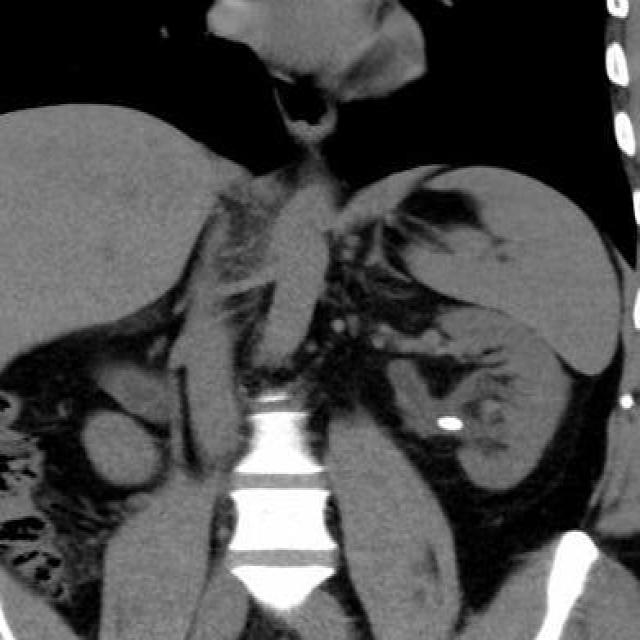Tas_Var: (436, 413, 464, 433)
